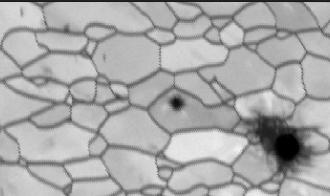good_void: (236, 96, 304, 179), (164, 91, 190, 115), (40, 61, 57, 77), (59, 20, 75, 36), (16, 3, 27, 21), (100, 50, 109, 64), (151, 141, 160, 150)
